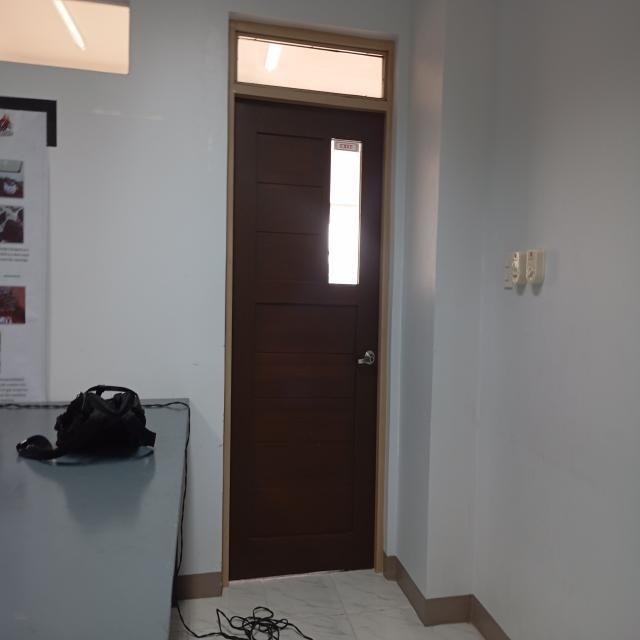door: (224, 5, 404, 597)
